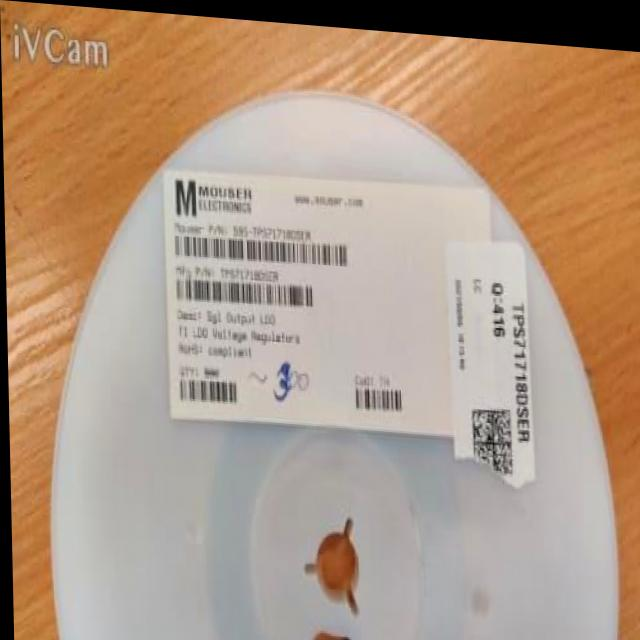datamatrix: (470, 397, 515, 474)
